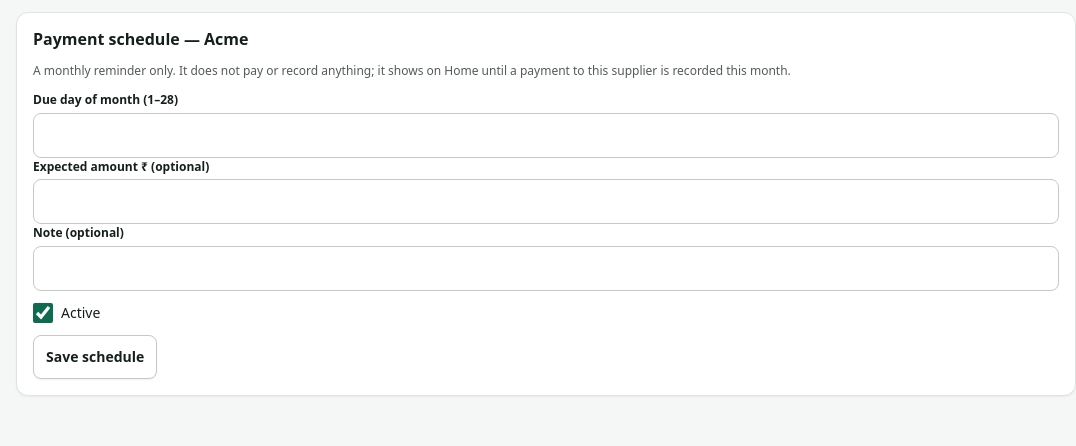
Test: saves a day and an exact amount as paise text, and says no money was recorded
The image size is (1076, 446).
In the field labelled "Due day of month (1–28)": {"x": 546, "y": 135} [33,113,1059,158], type "5"
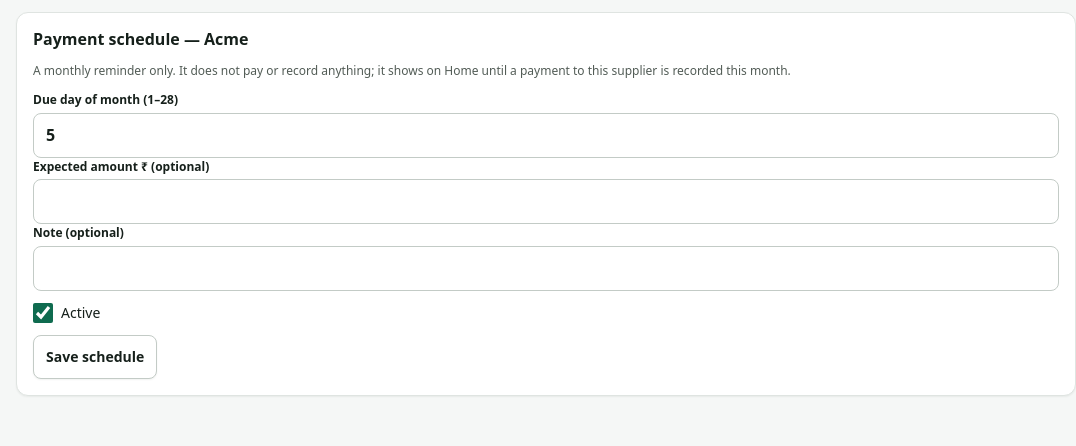
In the field labelled "Expected amount ₹ (optional)": {"x": 546, "y": 202} [33,179,1059,224], type "2500.50"
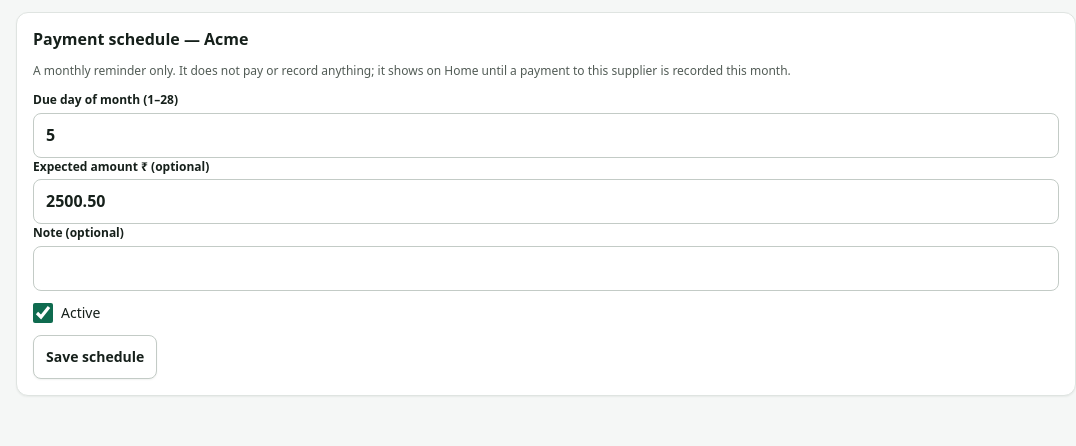
Click the button "Save schedule": {"x": 95, "y": 357} [33,335,157,379]
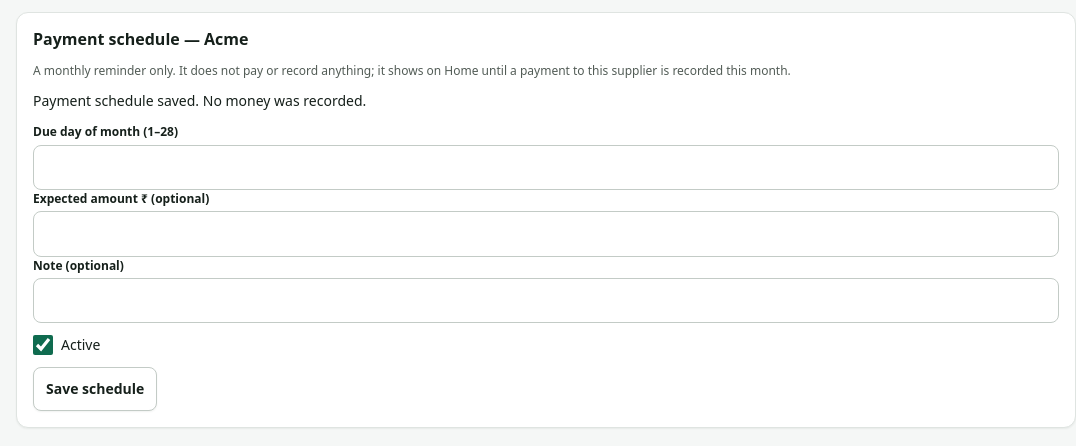
expect the text "No money was recorded" is shown: met, box [33,91,366,110]
